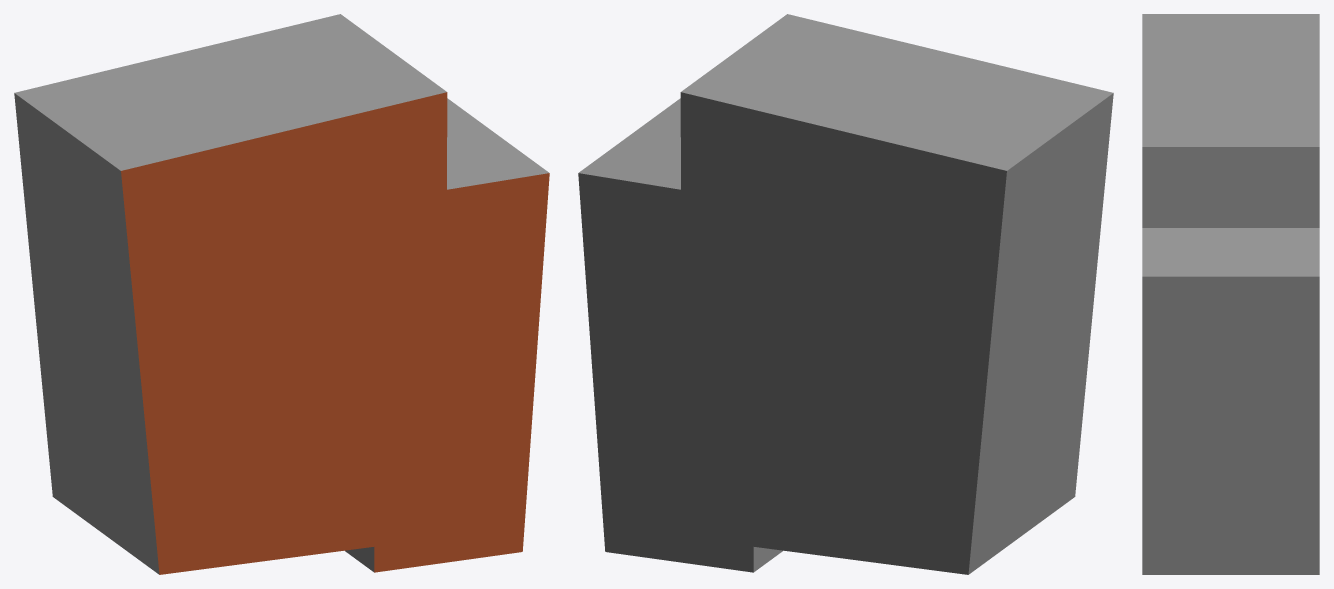
Rendered from construction_6851_assumed_A_Casa_h6m.obj.
3 renders of one model, left to right at view 1: azimuth 30°, elevation 25°; view 2: azimuth 150°, elevation 25°; view 3: azimuth 270°, elevation 25°, orthographic. The views are drawn at different scales.
Parts seen in each view (by area): view 1: construction_6851_assumed_A_Casa; view 2: construction_6851_assumed_A_Casa; view 3: construction_6851_assumed_A_Casa.
Boxes of the visible parts, x1,y1,x2,y2 form: construction_6851_assumed_A_Casa: (14, 14, 549, 574); construction_6851_assumed_A_Casa: (578, 14, 1113, 574); construction_6851_assumed_A_Casa: (1142, 14, 1319, 574).
Bounding box in the file's own units: 13.92 × 14.86 × 6.
